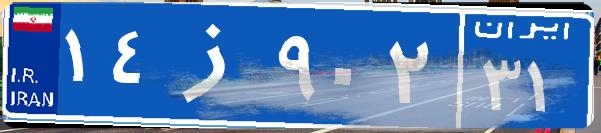0: (330, 28, 385, 110)
1: (57, 26, 110, 107), (525, 38, 570, 115)
2: (385, 28, 445, 110)
3: (475, 38, 525, 113)
4: (110, 28, 158, 105)
9: (273, 28, 330, 110)
ز: (158, 15, 273, 115)
